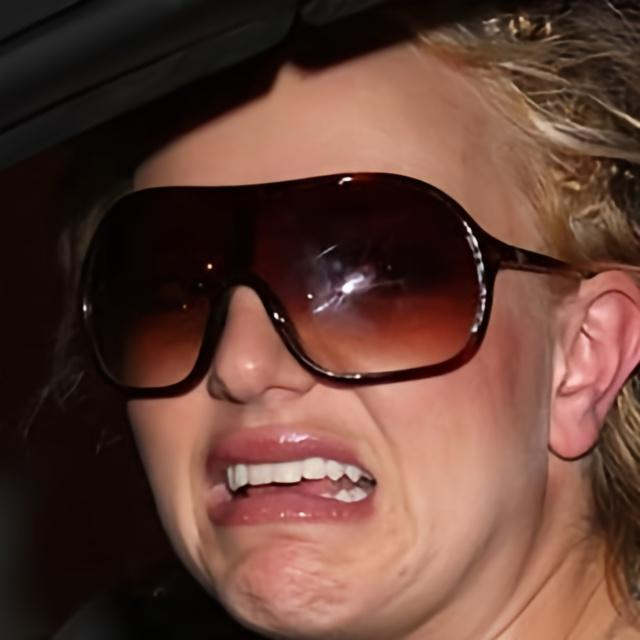disgust: (113, 0, 546, 636)
